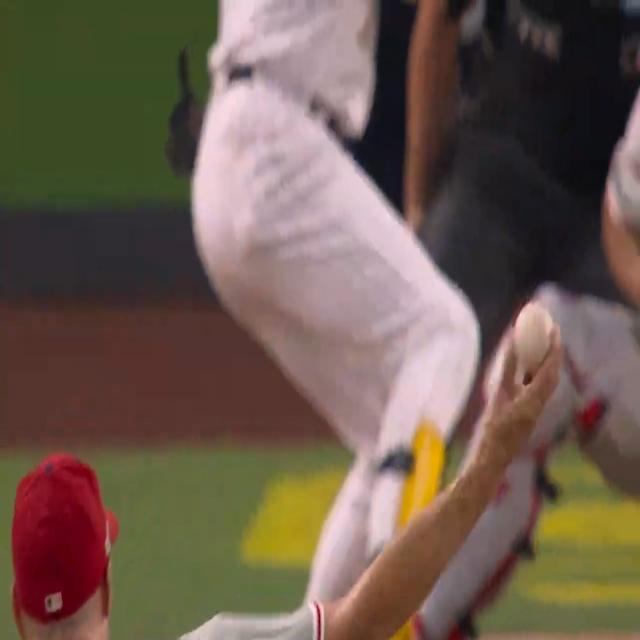baseball: (516, 300, 555, 375)
